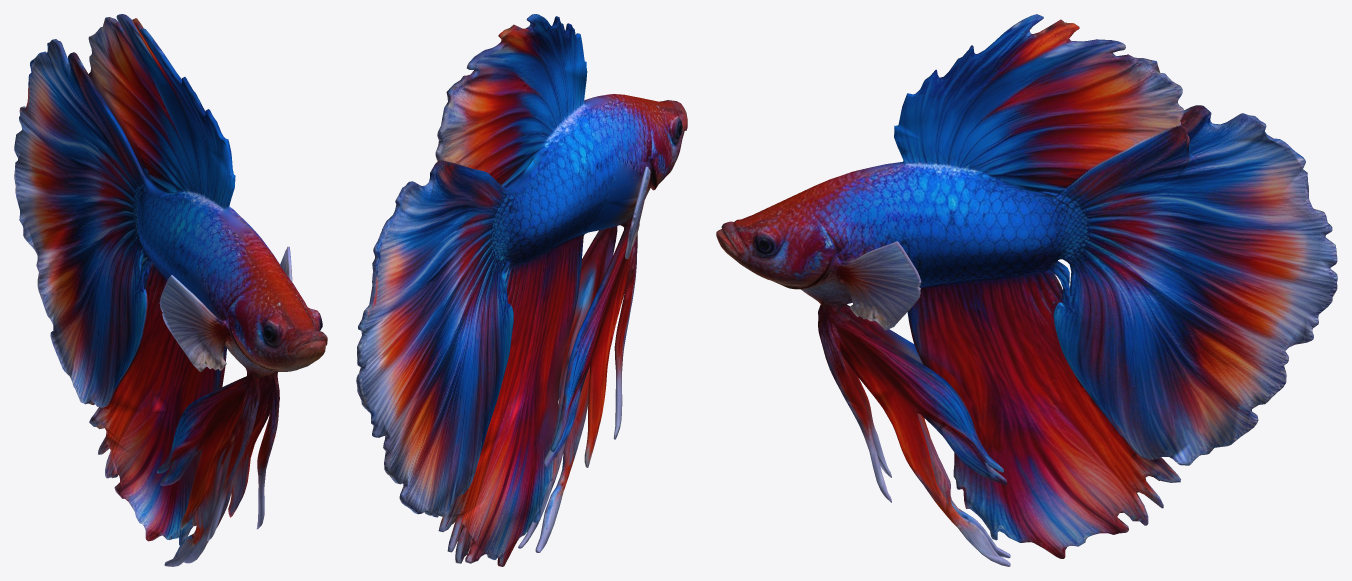
File: betta.glb
3 renders of one model, left to right at view 1: azimuth 30°, elevation 25°; view 2: azimuth 150°, elevation 25°; view 3: azimuth 270°, elevation 25°, orthographic. The views are drawn at different scales.
Parts seen in each view (by area): view 1: Body; view 2: Body; view 3: Body.
Part boxes in pixels (x1=…): Body: x1=14, y1=14, x2=327, y2=566; Body: x1=356, y1=14, x2=687, y2=566; Body: x1=716, y1=14, x2=1337, y2=566.
Bounding box in the file's own units: 0.1629 × 0.6836 × 0.7134.
1 material, 1 textured.
